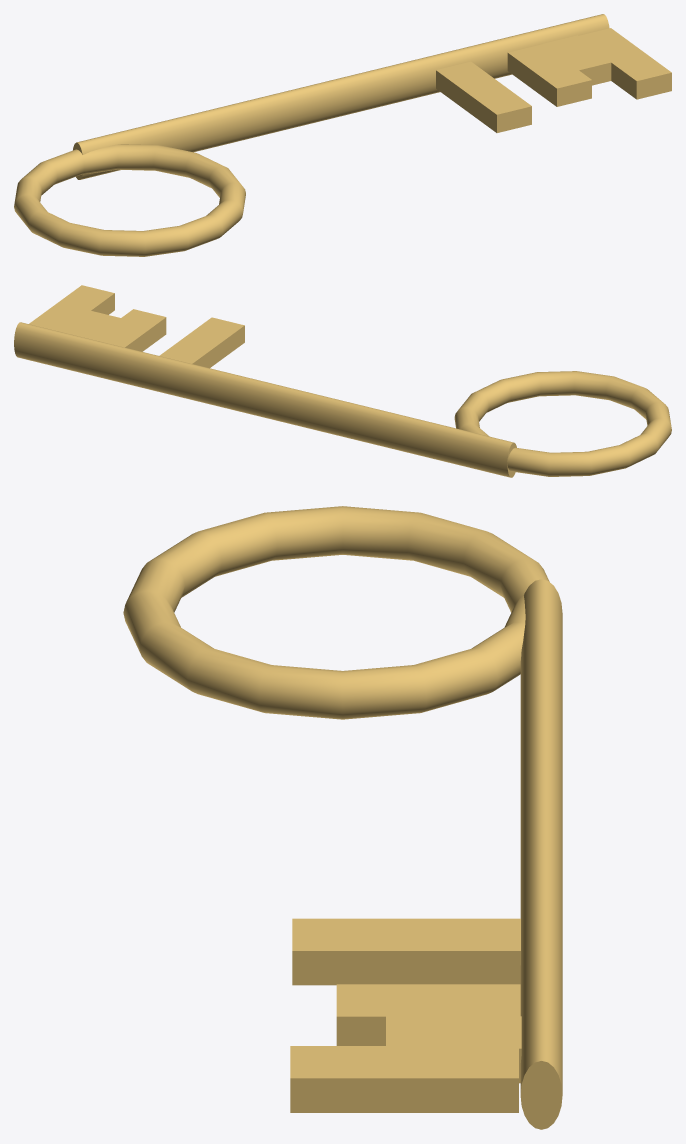
File: TestKeyModel.fbx
3 views of the same model, one above another, from view 1: azimuth 30°, elevation 25°; view 2: azimuth 150°, elevation 25°; view 3: azimuth 270°, elevation 25° (orthographic). The views are drawn at different scales.
Parts seen in each view (by area): view 1: pCylinder1, pTorus1, pasted__pCube2 (×3), pCube2; view 2: pCylinder1, pTorus1, pasted__pCube2 (×3), pCube2; view 3: pTorus1, pasted__pCube2 (×3), pCylinder1, pCube2.
Part boxes in pixels (x1=…): pCylinder1: x1=73, y1=14, x2=609, y2=179; pTorus1: x1=14, y1=144, x2=245, y2=256; pasted__pCube2 (×3): x1=436, y1=35, x2=613, y2=132; pCube2: x1=576, y1=28, x2=671, y2=99; pCylinder1: x1=14, y1=322, x2=516, y2=477; pTorus1: x1=454, y1=371, x2=671, y2=476; pasted__pCube2 (×3): x1=60, y1=309, x2=244, y2=368; pCube2: x1=29, y1=285, x2=114, y2=331; pTorus1: x1=123, y1=506, x2=549, y2=719; pasted__pCube2 (×3): x1=292, y1=918, x2=521, y2=1083; pCylinder1: x1=520, y1=579, x2=562, y2=1129; pCube2: x1=290, y1=1046, x2=518, y2=1112.
Bounding box in the file's own units: 3.57 × 0.2 × 1.15.
